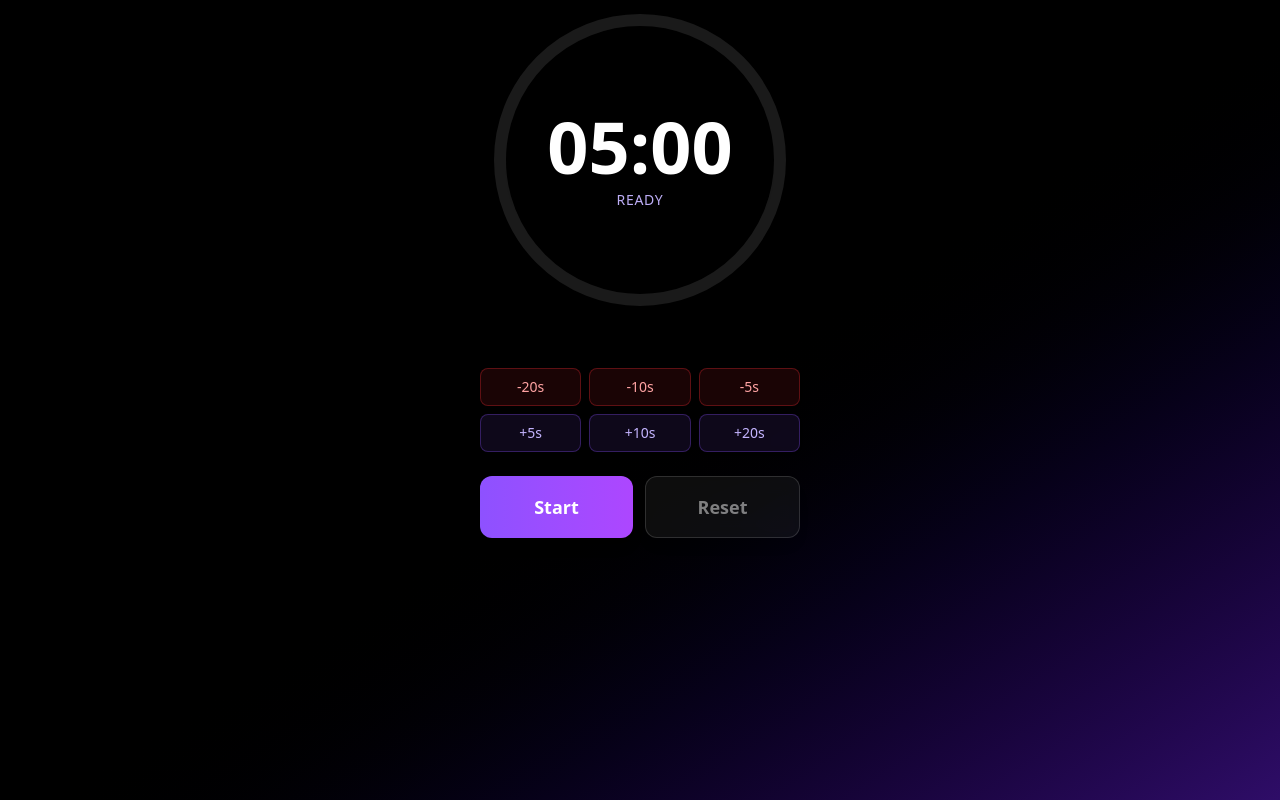
Test: Pomodoro Timer › 2. stops the timer › stops and resets to initial time when Reset is clicked
The image size is (1280, 800).
Click the button "Start". click: (556, 507)
box: x1=480 y1=476 x2=633 y2=538
Wait 10000 ms
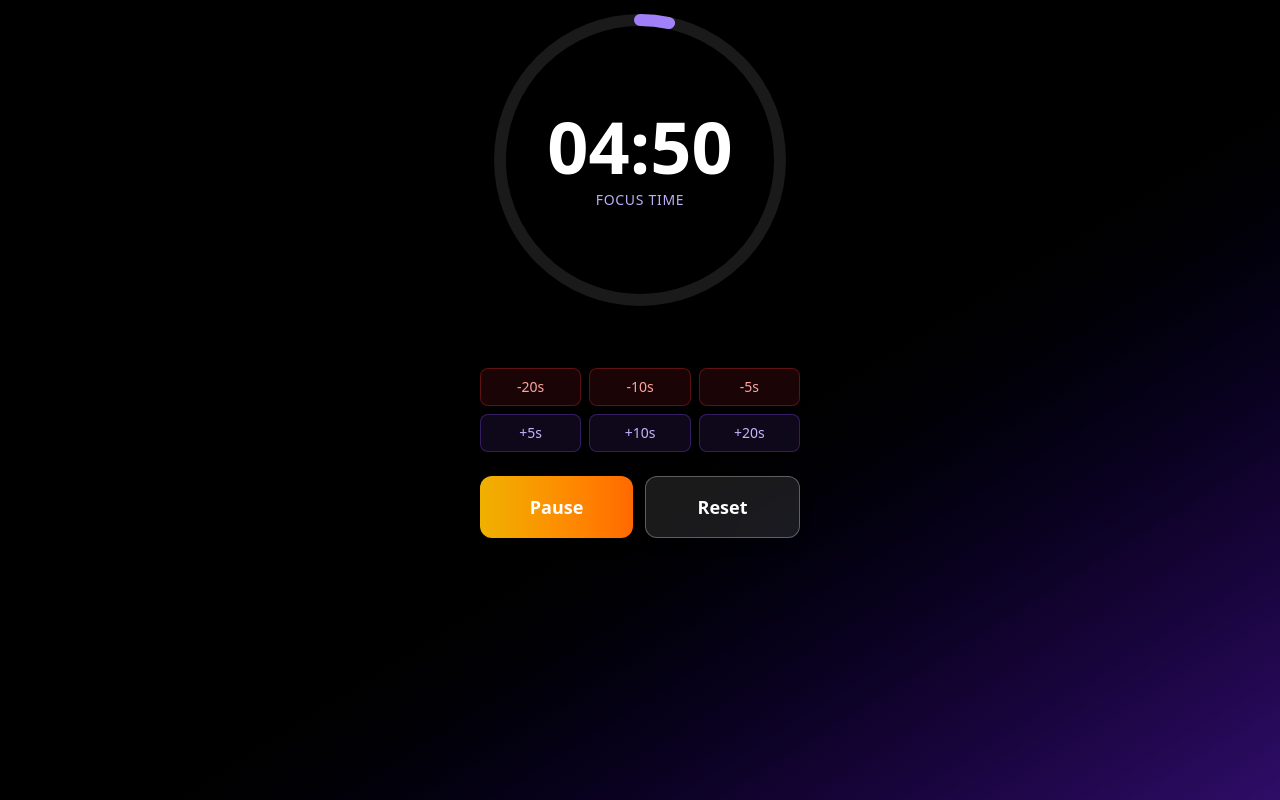
Expected: the text "04:50" is shown, x1=547 y1=110 x2=733 y2=182
Click the button "Reset". click: (722, 507)
box: x1=645 y1=476 x2=800 y2=538
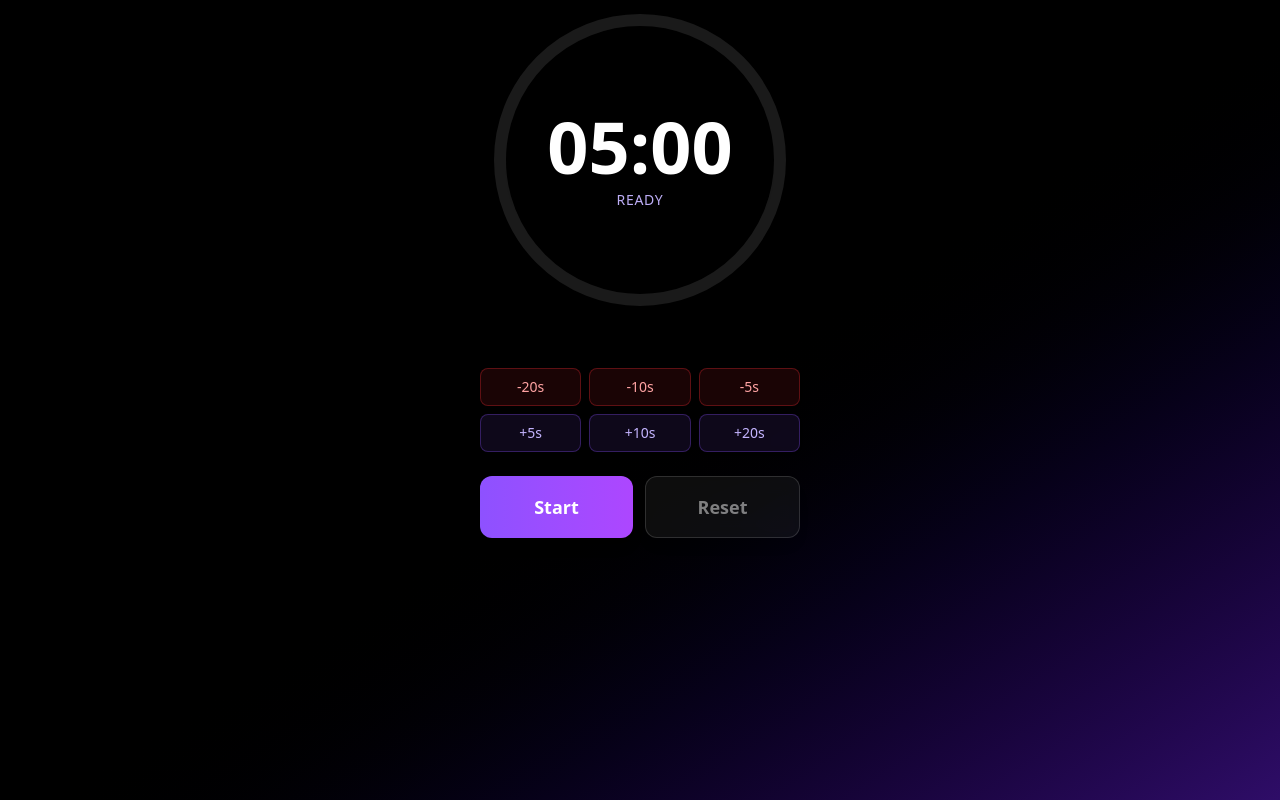
Expected: the text "05:00" is shown, x1=547 y1=110 x2=733 y2=182
Expected: the text "Ready" is shown, x1=616 y1=190 x2=664 y2=209
